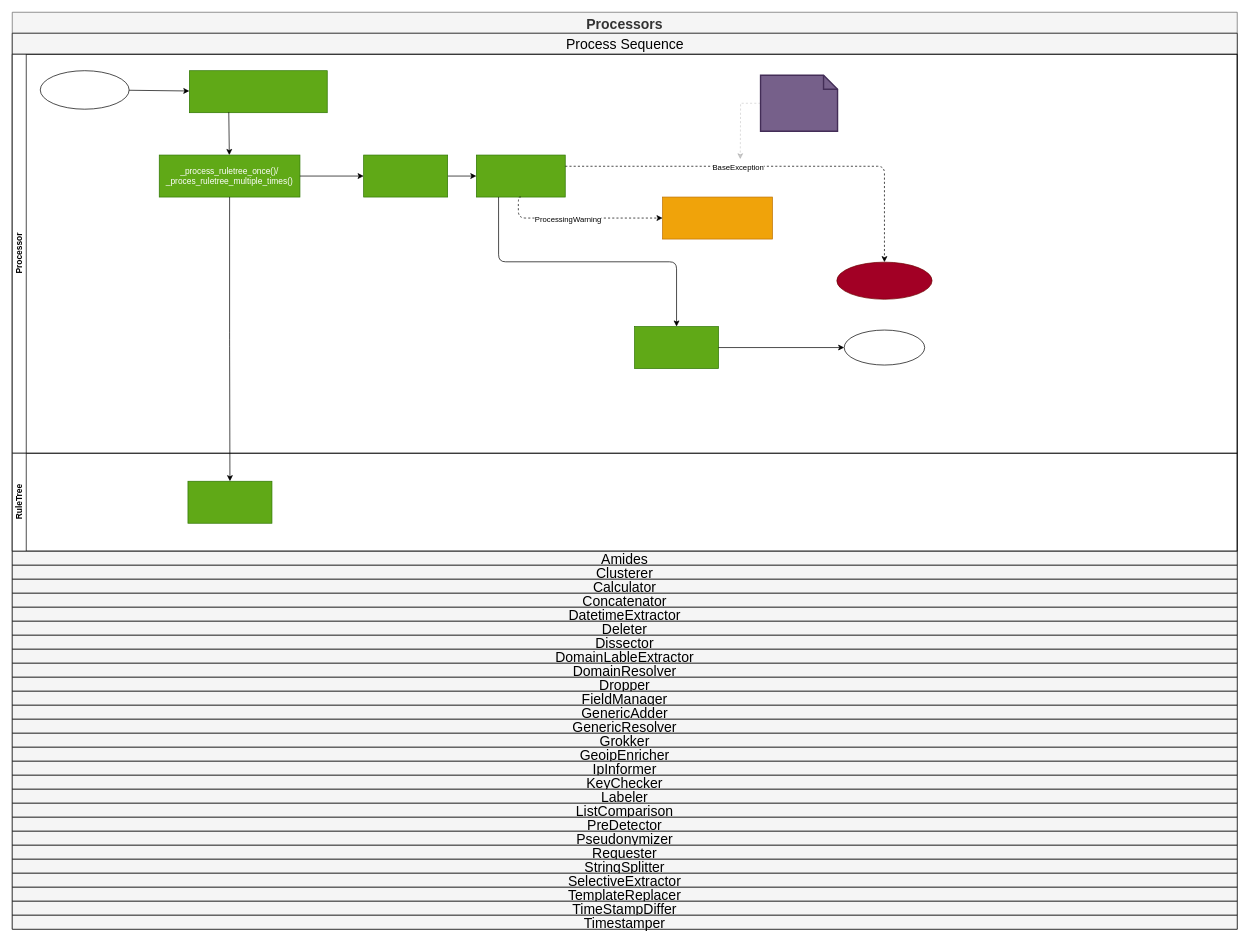
The diagram is 1250 pixels wide and 944 high, and some of its shapes have lost their labels. Each missing label, with the centre of its shape:
"_apply_rule_wrapper()" goes at point (520, 175).
"_handle_warning_error()" goes at point (717, 217).
"_process_rule()" goes at point (405, 175).
"_process_rule_tree(rules)" goes at point (258, 91).
"apply_rules()" goes at point (676, 347).
"get_matching_rules()" goes at point (229, 502).
"ProcessingCriticalError" goes at point (884, 280).
"processor.process()" goes at point (84, 89).
"see respective processor" goes at point (884, 347).
"wrong action consindere using exception not BaseException" goes at point (799, 103).
